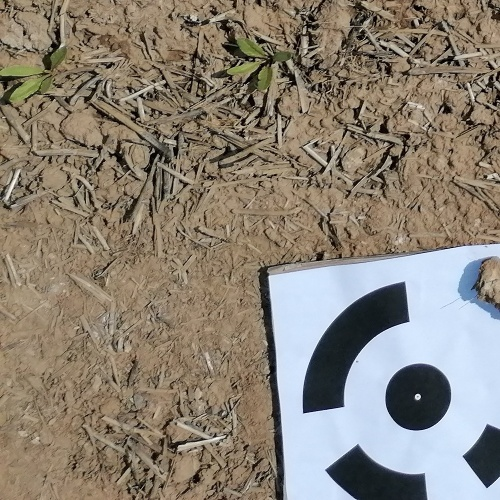beet: (0, 44, 68, 106), (228, 36, 291, 91)
